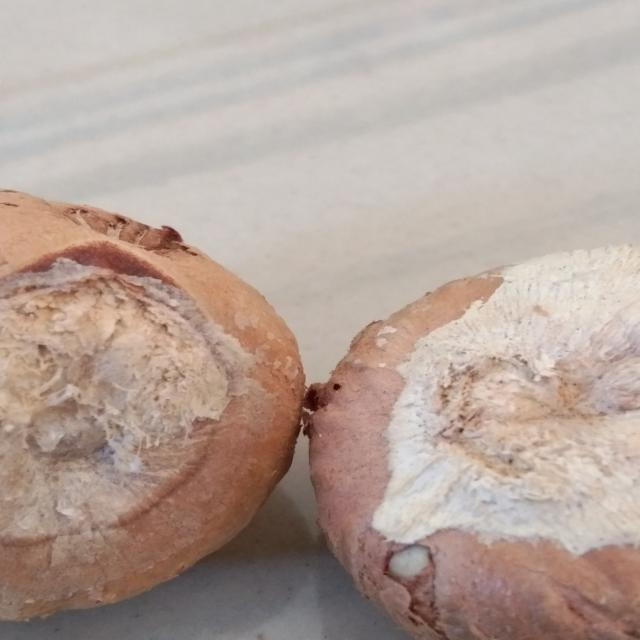good: (321, 250, 640, 640)
phatora: (0, 188, 323, 632)
